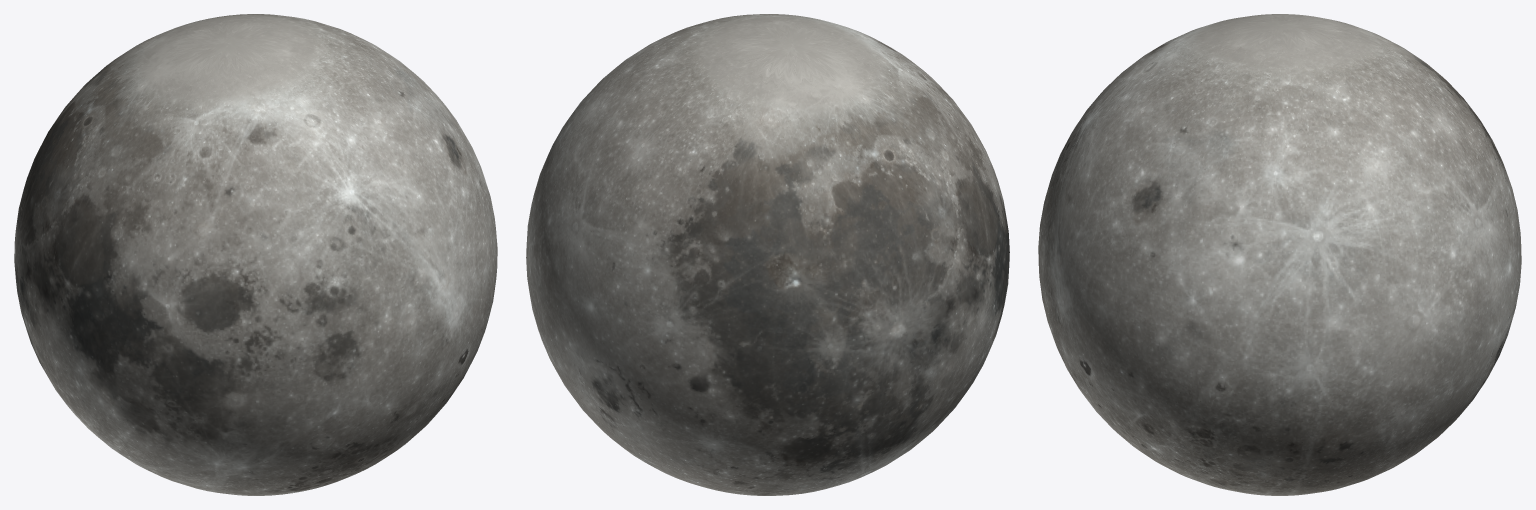
File: Moon.glb
3 renders of one model, left to right at view 1: azimuth 30°, elevation 25°; view 2: azimuth 150°, elevation 25°; view 3: azimuth 270°, elevation 25°, orthographic.
Parts seen in each view (by area): view 1: Sphere; view 2: Sphere; view 3: Sphere.
Boxes of the visible parts, left/top/right/bottom form: Sphere: left=14, top=14, right=497, bottom=495; Sphere: left=526, top=14, right=1009, bottom=495; Sphere: left=1038, top=14, right=1521, bottom=495.
Size of the model in its own units: 199 by 199 by 199.
1 material, 1 textured.
